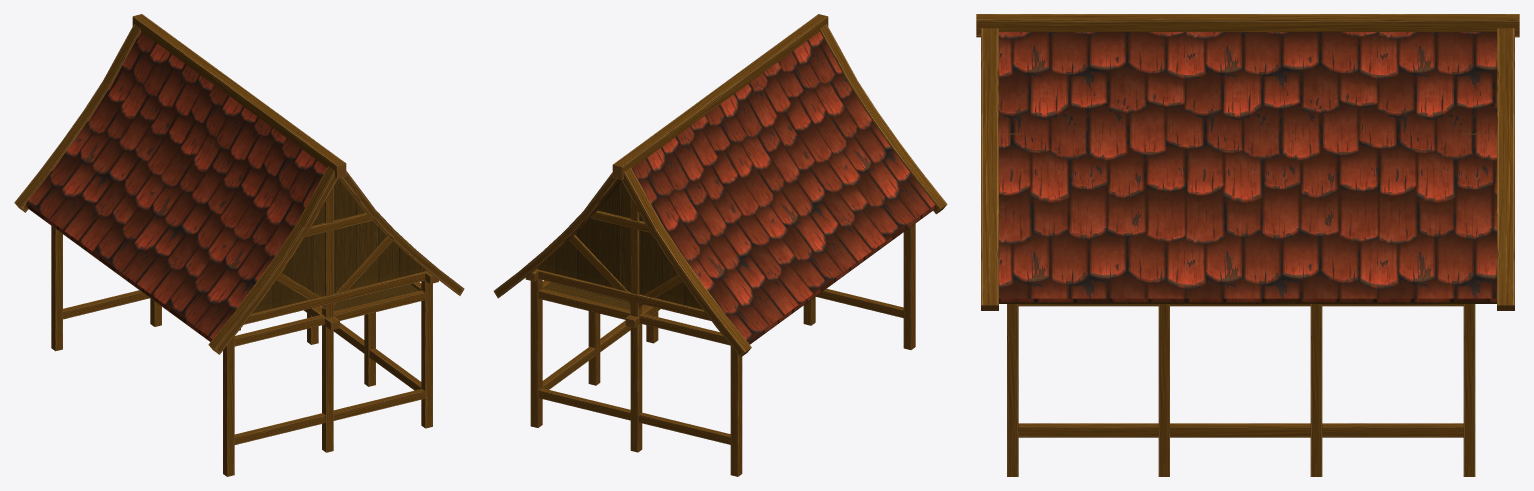
Rendered from structure_barn_(2).gltf.
The picture shows the model from 3 angles, left to right: view 1: azimuth 30°, elevation 25°; view 2: azimuth 150°, elevation 25°; view 3: azimuth 270°, elevation 25°; orthographic projection. The views are drawn at different scales.
Visible parts, largest first — view 1: SM_Barn_LOD0; view 2: SM_Barn_LOD0; view 3: SM_Barn_LOD0.
Part boxes in pixels (x1,y1,x2,y2): SM_Barn_LOD0: (14, 14, 464, 476); SM_Barn_LOD0: (493, 14, 947, 476); SM_Barn_LOD0: (976, 14, 1519, 476).
Size of the model in its own units: 5.04 by 5.7 by 7.14.
Materials: 4 (4 with a texture image).
